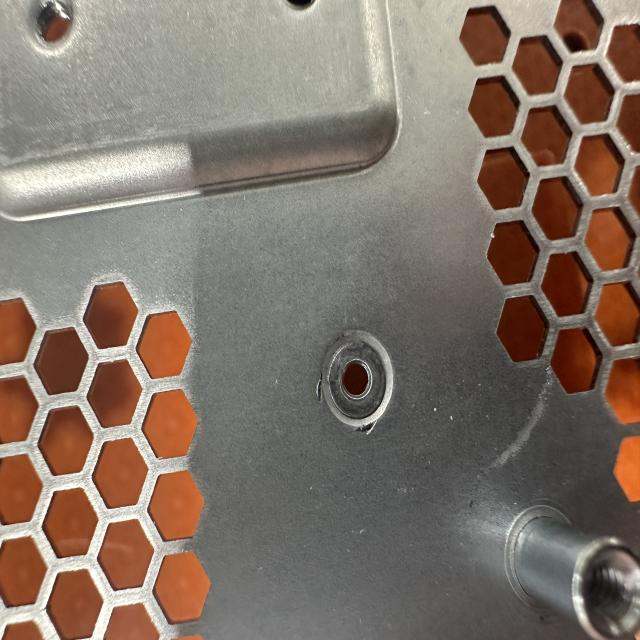Missing screw: (316, 323, 399, 435)
